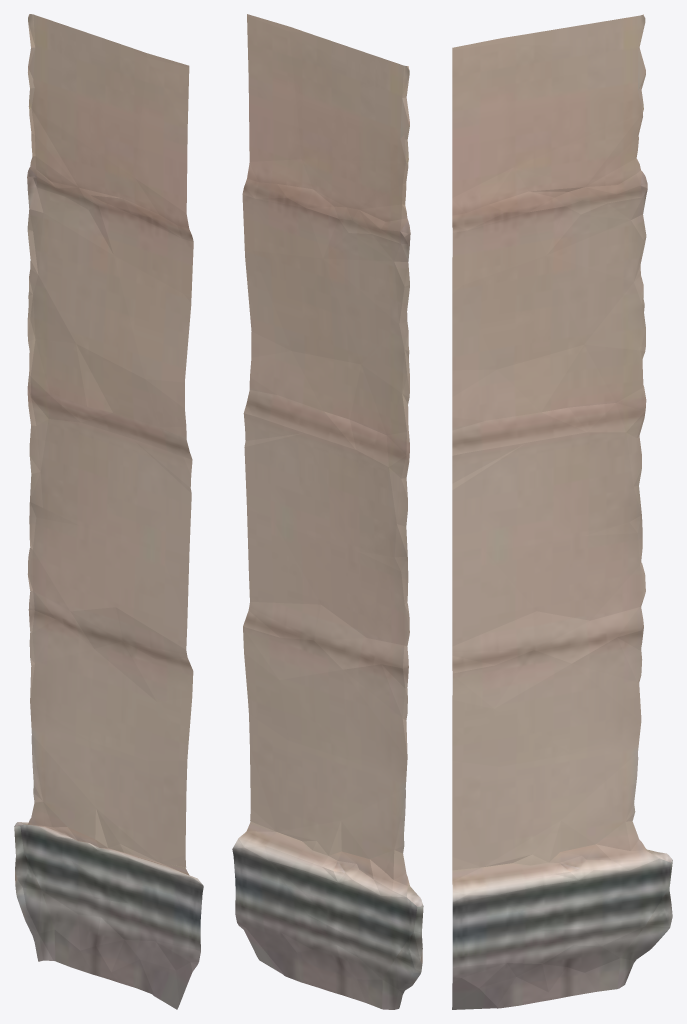
The model's file is Tile_+011_+008_L21_0000013400.glb.
3 views of the same model, side by side, from view 1: azimuth 30°, elevation 25°; view 2: azimuth 210°, elevation 25°; view 3: azimuth 270°, elevation 25° (orthographic). The views are drawn at different scales.
Parts seen in each view (by area): view 1: rtc; view 2: rtc; view 3: rtc.
Part boxes in pixels (x1,y1,x2,y2): rtc: [14, 14, 203, 1009]; rtc: [232, 14, 423, 1009]; rtc: [452, 14, 672, 1009].
Size of the model in its own units: 2.54 by 27.65 by 5.71.
Materials: 1 (1 with a texture image).
